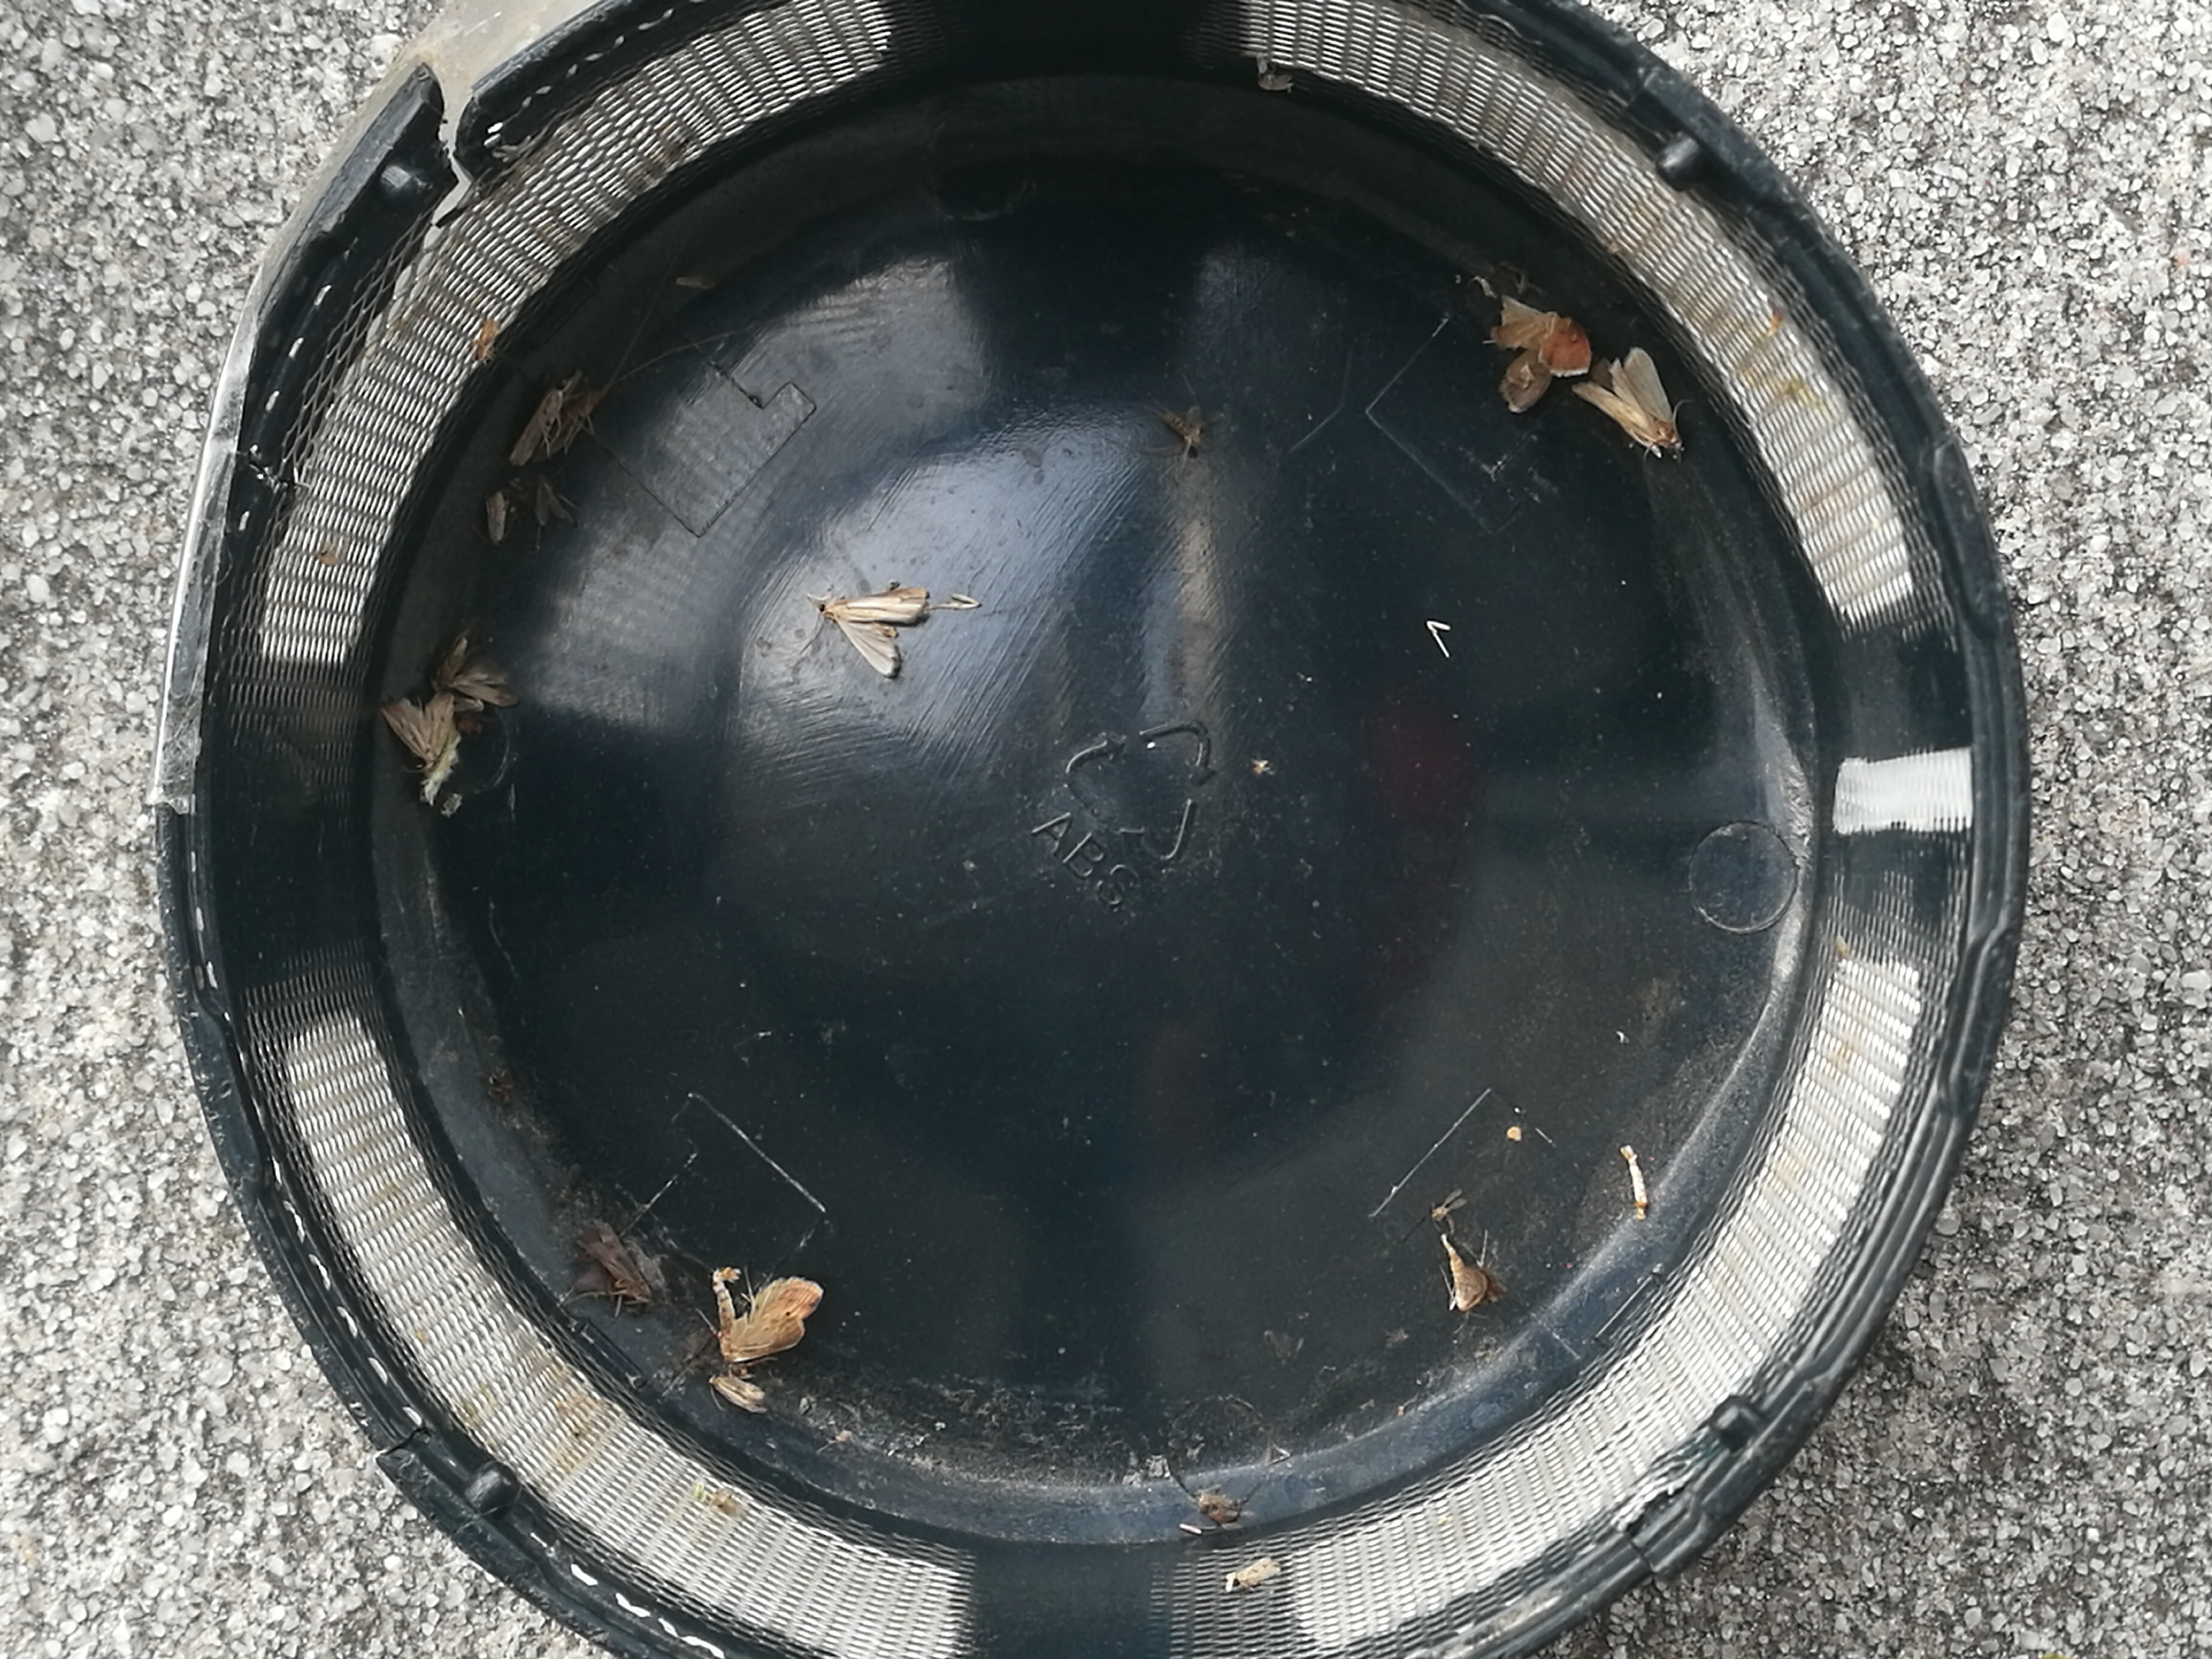mosquito: (577, 1218, 648, 1302), (510, 371, 571, 464), (550, 389, 604, 450), (707, 1375, 763, 1412)
moth: (1573, 349, 1679, 455), (1491, 298, 1590, 411), (712, 1265, 824, 1361), (817, 589, 928, 678), (428, 626, 519, 706), (383, 690, 455, 769)
